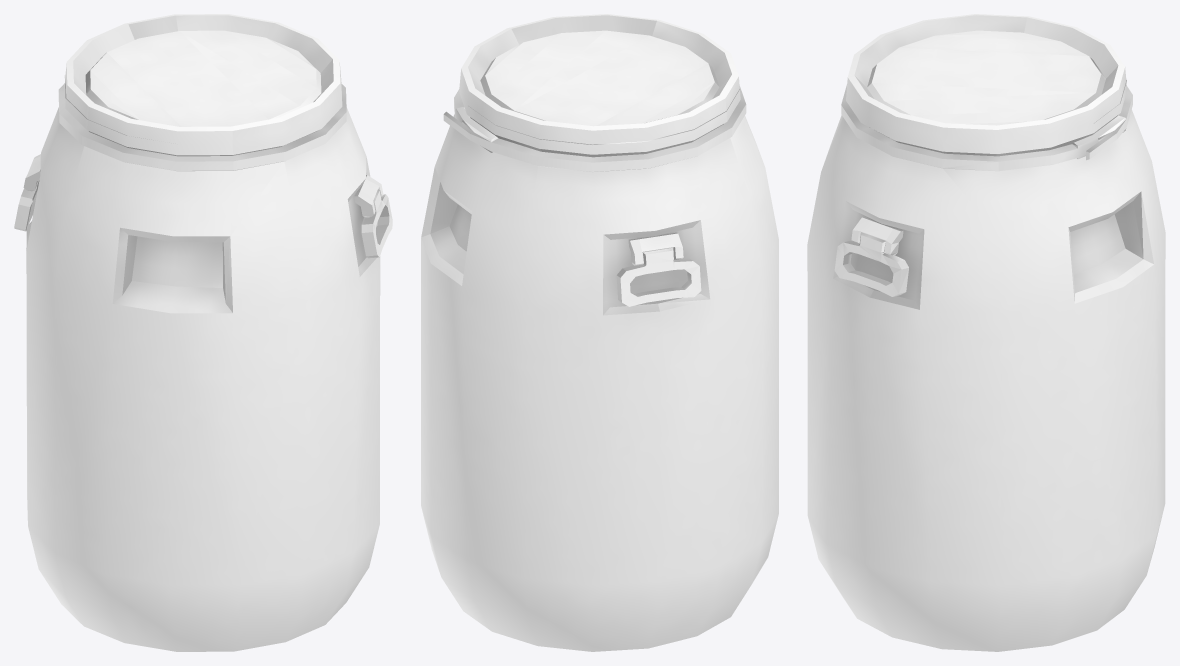
Rendered from Barrel60.glb.
3 renders of one model, left to right at view 1: azimuth 30°, elevation 25°; view 2: azimuth 150°, elevation 25°; view 3: azimuth 270°, elevation 25°, orthographic.
Parts seen in each view (by area): view 1: Barrel60, Barrel60.001; view 2: Barrel60, Barrel60.001; view 3: Barrel60, Barrel60.001.
Boxes of the visible parts, left/top/right/bottom form: Barrel60: left=26, top=107, right=380, bottom=651; Barrel60.001: left=14, top=14, right=392, bottom=258; Barrel60: left=421, top=114, right=778, bottom=651; Barrel60.001: left=443, top=14, right=746, bottom=306; Barrel60: left=807, top=109, right=1165, bottom=651; Barrel60.001: left=834, top=14, right=1132, bottom=296.
Bounding box in the file's own units: 0.3901 × 0.6267 × 0.3901.
Materials: 1 (1 with a texture image).
